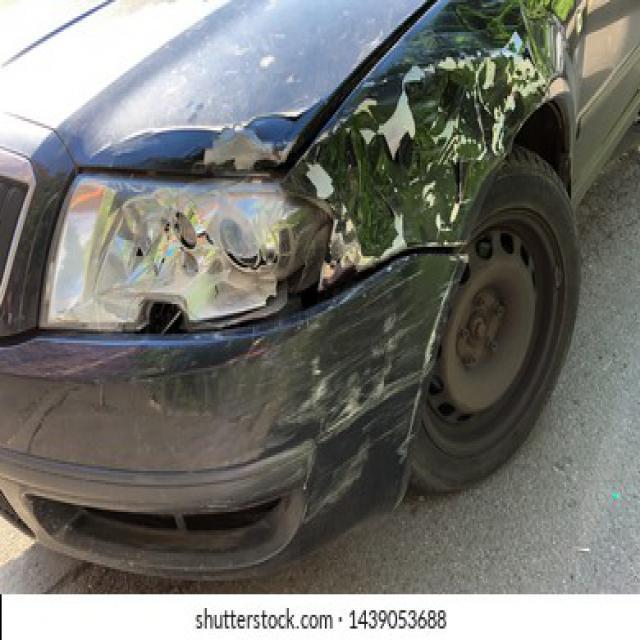Headlight-Damage: (14, 178, 298, 336)
bonnet-dent: (302, 53, 484, 300), (88, 82, 316, 180), (425, 0, 591, 96)
front-bumper-dent: (270, 294, 447, 538)
